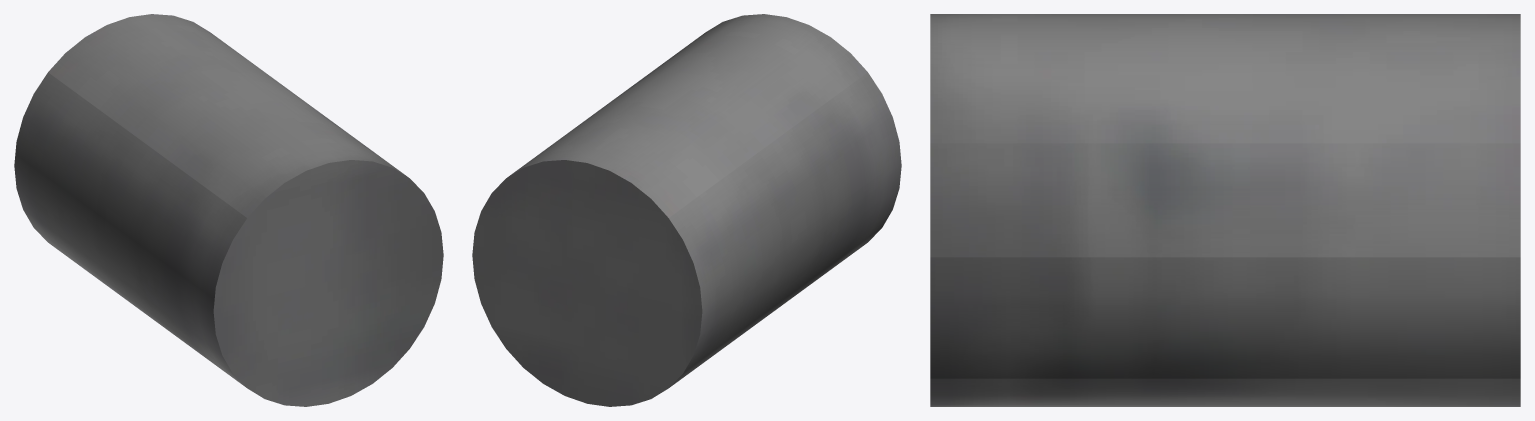
Rendered from reading_arm__root_knuckle.glb.
The picture shows the model from 3 angles, left to right: view 1: azimuth 30°, elevation 25°; view 2: azimuth 150°, elevation 25°; view 3: azimuth 270°, elevation 25°; orthographic projection. The views are drawn at different scales.
Parts seen in each view (by area): view 1: geometry_0; view 2: geometry_0; view 3: geometry_0.
Boxes of the visible parts, bbox=[...] form: geometry_0: bbox=[14, 14, 443, 406]; geometry_0: bbox=[472, 14, 901, 406]; geometry_0: bbox=[930, 14, 1520, 406].
Bounding box in the file's own units: 0.024 × 0.024 × 0.036.
1 material, 1 textured.
